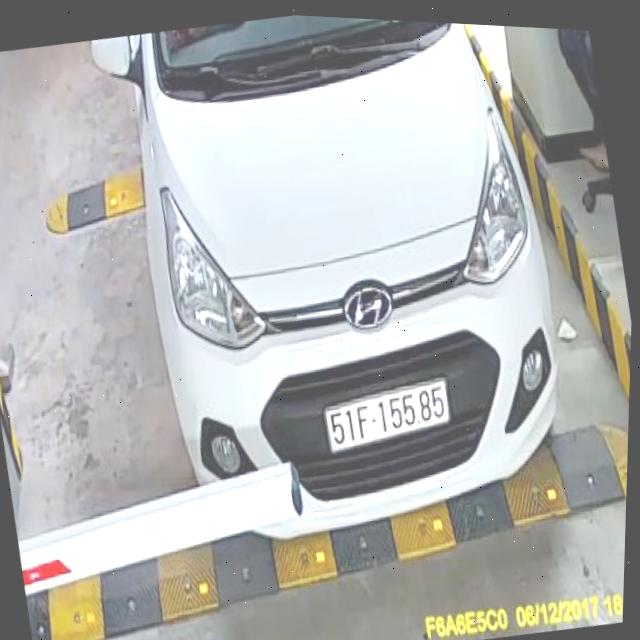car: (67, 4, 601, 582)
plate: (317, 369, 461, 460)
